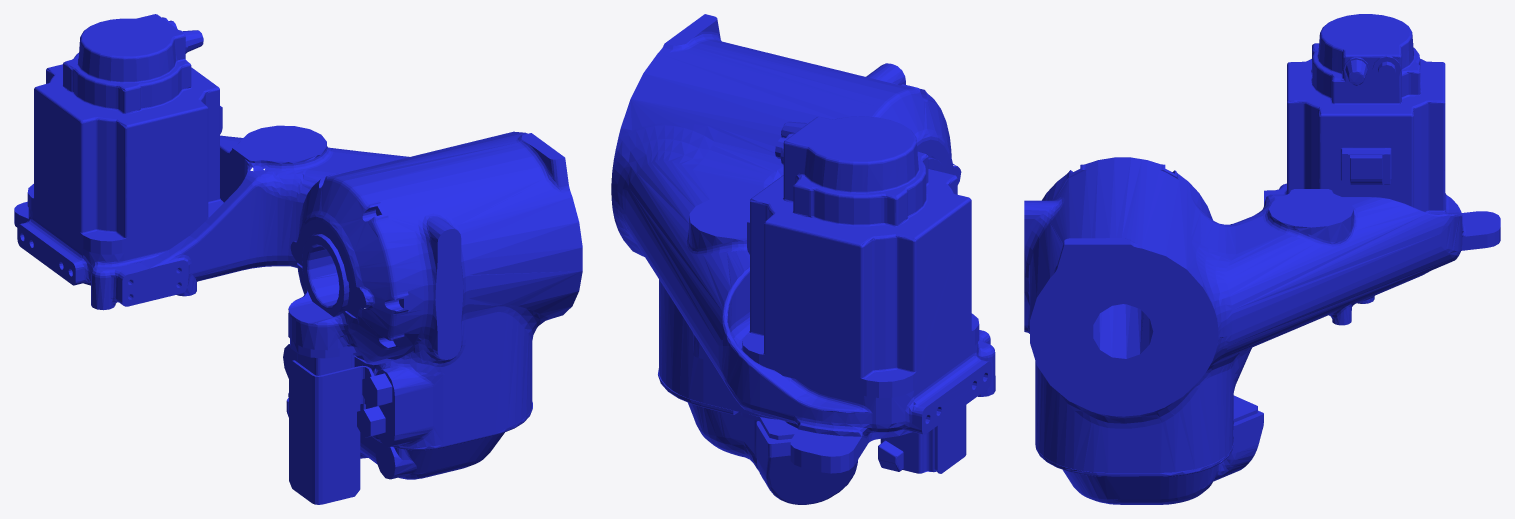
3 renders of one model, left to right at view 1: azimuth 30°, elevation 25°; view 2: azimuth 150°, elevation 25°; view 3: azimuth 270°, elevation 25°, orthographic. The views are drawn at different scales.
Visible parts, largest first — view 1: /Link3/Link3-mesh/0; view 2: /Link3/Link3-mesh/0; view 3: /Link3/Link3-mesh/0.
Boxes of the visible parts, x1=… form: /Link3/Link3-mesh/0: x1=14, y1=14, x2=582, y2=504; /Link3/Link3-mesh/0: x1=611, y1=14, x2=995, y2=504; /Link3/Link3-mesh/0: x1=1024, y1=14, x2=1500, y2=504.
Size of the model in its own units: 0.34 by 0.3465 by 0.3915.
